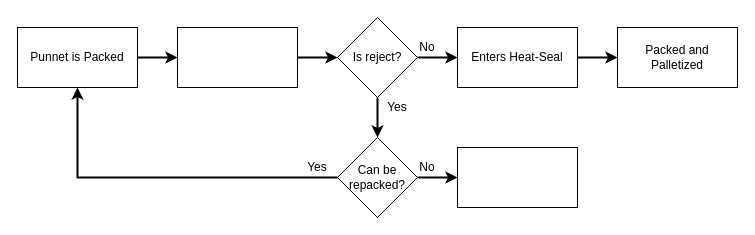
Some shapes in this 755 by 235 pixel diagram are drawn without their labels. The shapes that lost their labels are listed below. From the top down, each one's centre as x and y in pixels, then its label:
pixel 237 57: Enters SQA Vision System
pixel 517 177: Discard
